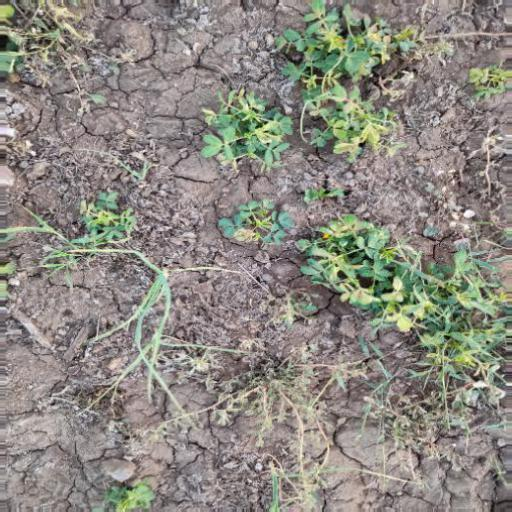weed: (156, 6, 510, 192), (219, 203, 512, 399), (34, 187, 203, 512)
